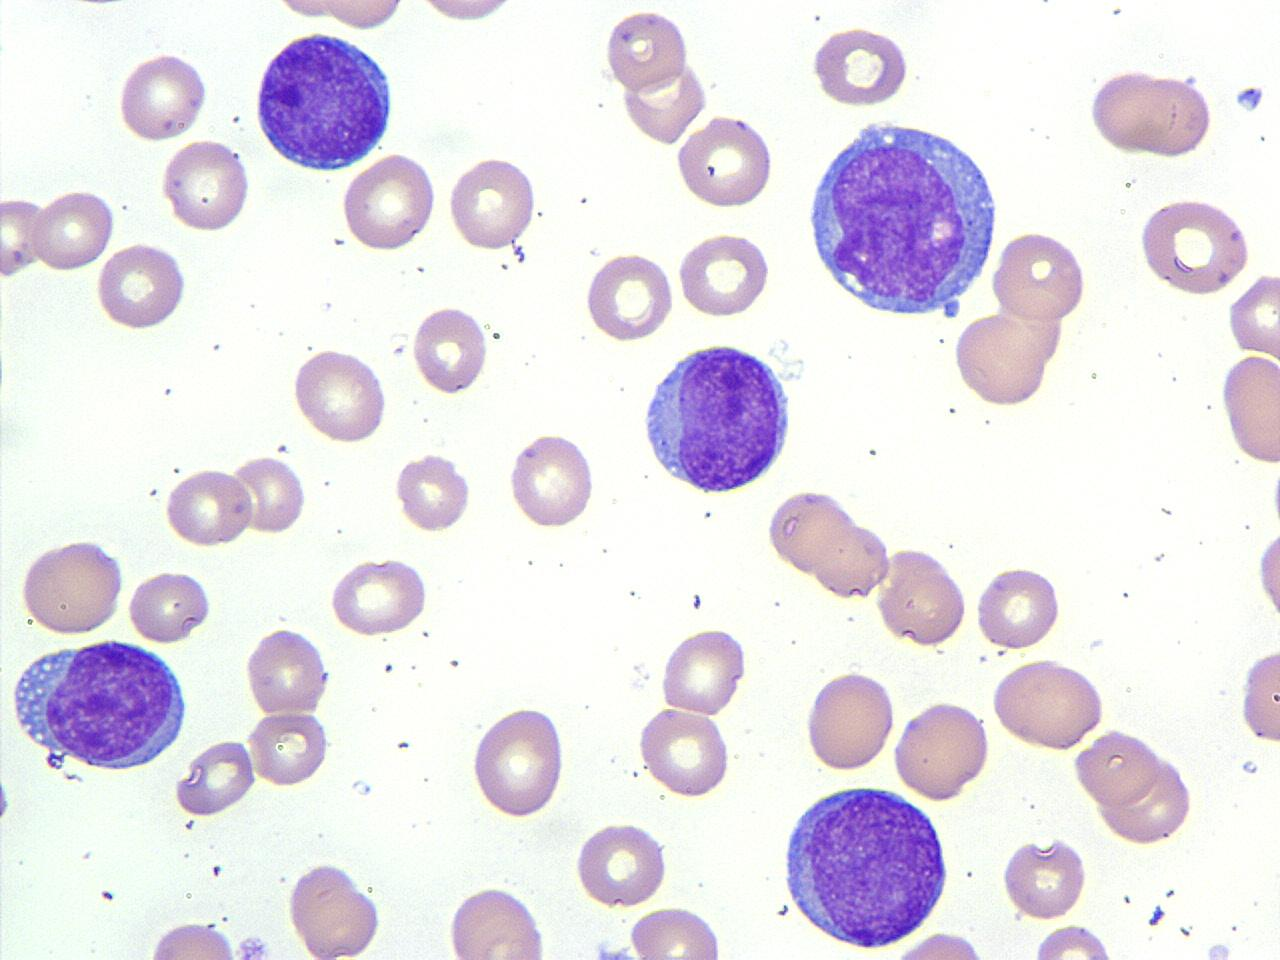Platelets: (1231, 83, 1267, 116), (1267, 462, 1280, 539), (236, 934, 271, 960), (592, 939, 634, 960), (0, 773, 14, 826), (1202, 940, 1234, 960), (1148, 902, 1168, 926), (512, 242, 527, 265)
RBC: (1136, 193, 1254, 298), (468, 702, 568, 820), (988, 656, 1108, 755), (950, 308, 1062, 408), (18, 535, 125, 637), (891, 696, 992, 804), (672, 114, 778, 213), (802, 666, 898, 774), (340, 150, 438, 254), (289, 345, 391, 445), (874, 546, 972, 648), (285, 858, 384, 959), (989, 228, 1089, 324), (1094, 755, 1196, 847), (636, 704, 733, 800), (506, 430, 596, 532), (159, 136, 252, 234), (445, 153, 537, 252), (674, 229, 773, 321), (115, 48, 209, 144), (656, 622, 749, 719), (327, 554, 432, 638), (572, 819, 670, 910), (809, 23, 911, 110), (93, 240, 188, 332), (581, 251, 675, 343), (1085, 66, 1177, 157), (1119, 70, 1213, 158), (243, 623, 332, 718), (444, 882, 552, 958), (602, 6, 692, 96), (974, 563, 1063, 652), (766, 487, 856, 576), (998, 834, 1090, 920), (29, 186, 114, 274), (162, 465, 253, 548), (412, 302, 490, 396), (1073, 728, 1163, 809), (1220, 351, 1280, 467), (812, 516, 893, 602), (392, 449, 473, 533), (244, 708, 332, 786), (125, 568, 213, 644), (231, 451, 307, 535), (175, 736, 256, 816), (626, 903, 726, 959), (1226, 271, 1280, 359), (1236, 642, 1280, 749), (143, 920, 245, 960), (1, 196, 47, 282), (874, 928, 996, 959), (1029, 923, 1119, 960), (410, 0, 526, 28), (318, 0, 410, 33), (1254, 520, 1280, 632), (271, 0, 345, 22)
WBC: (798, 109, 1008, 324), (778, 776, 956, 952), (2, 632, 193, 778), (636, 336, 797, 499), (250, 26, 400, 174)
